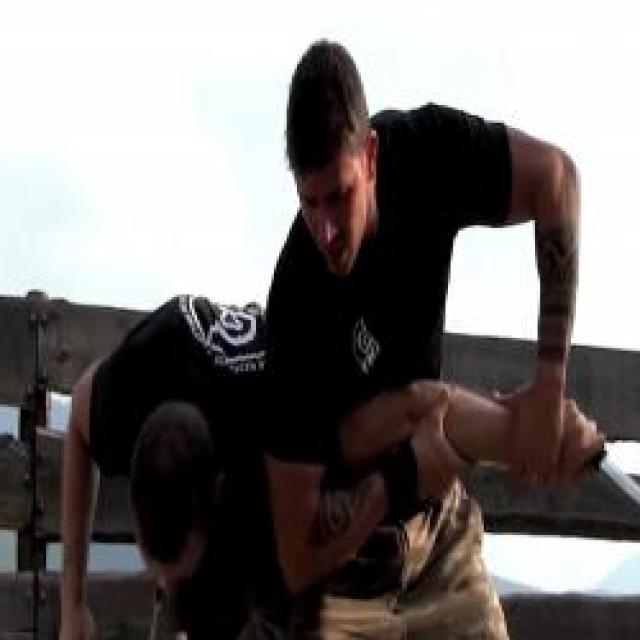knife: (566, 392, 640, 530)
